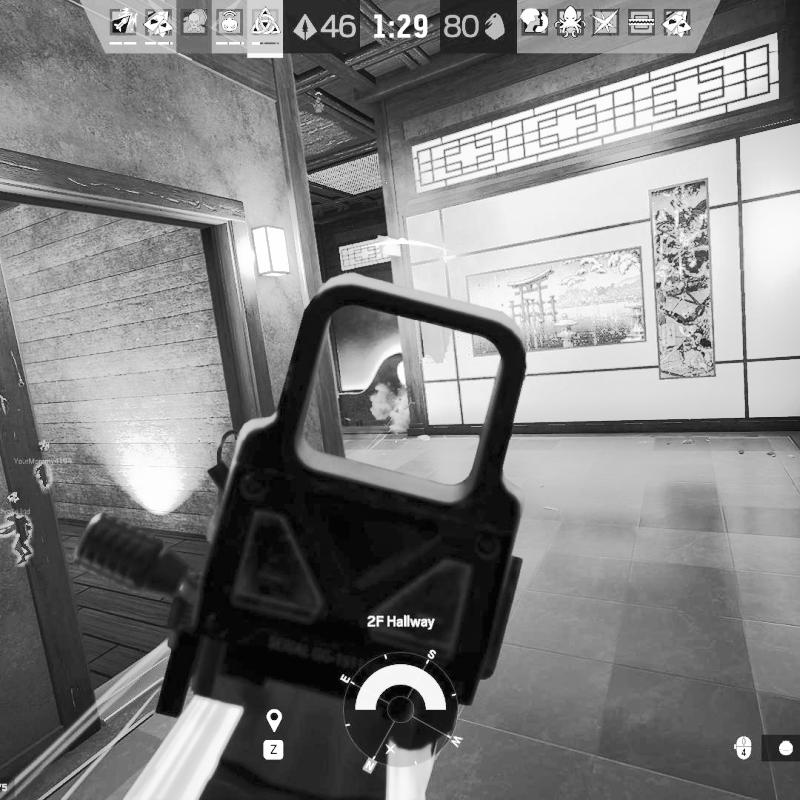Friend_label: (15, 438, 72, 467), (0, 491, 32, 516)
